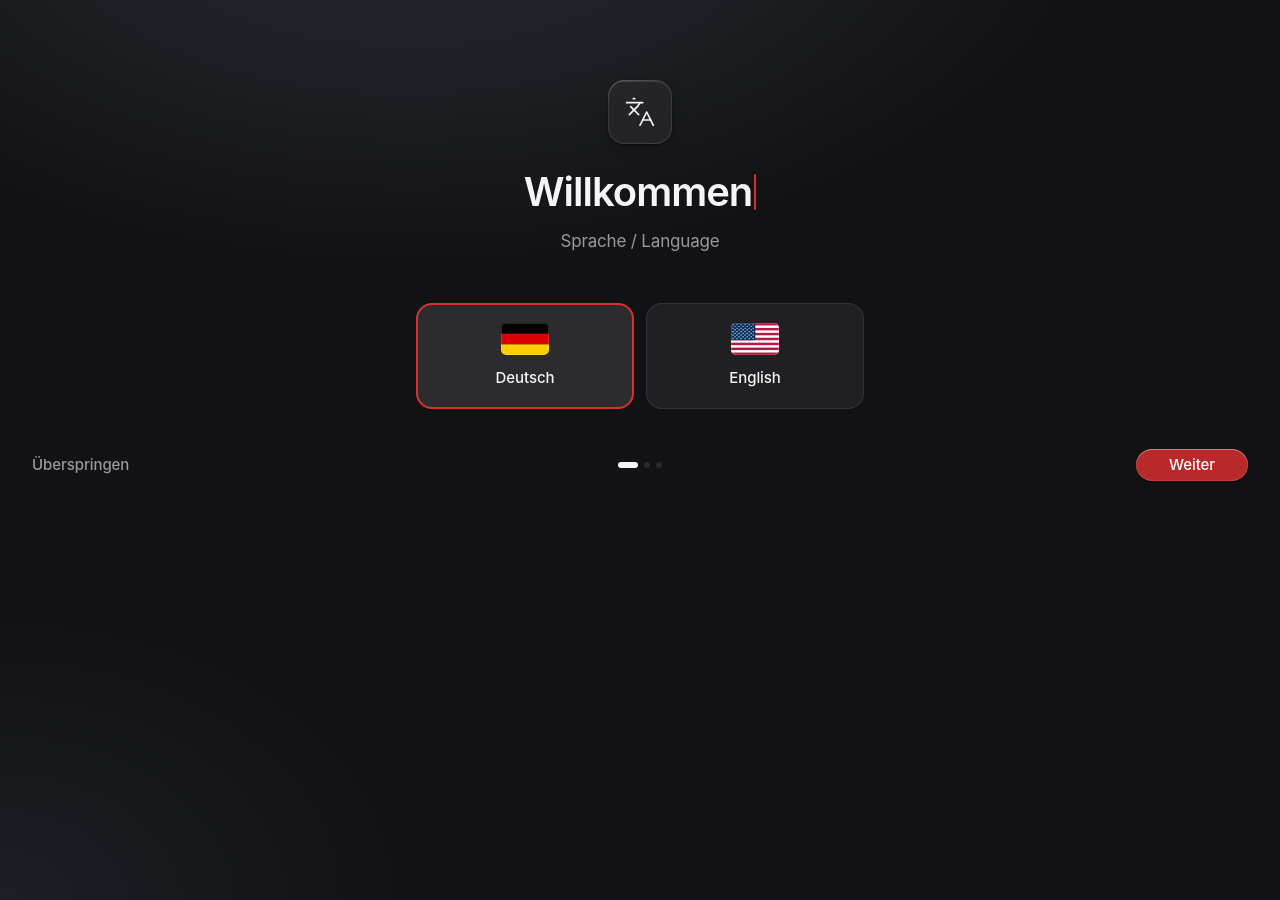
OnboardingFlow › moves forward and back between steps
Click the button "Weiter" at (1192, 465), box [1136,449,1248,481]
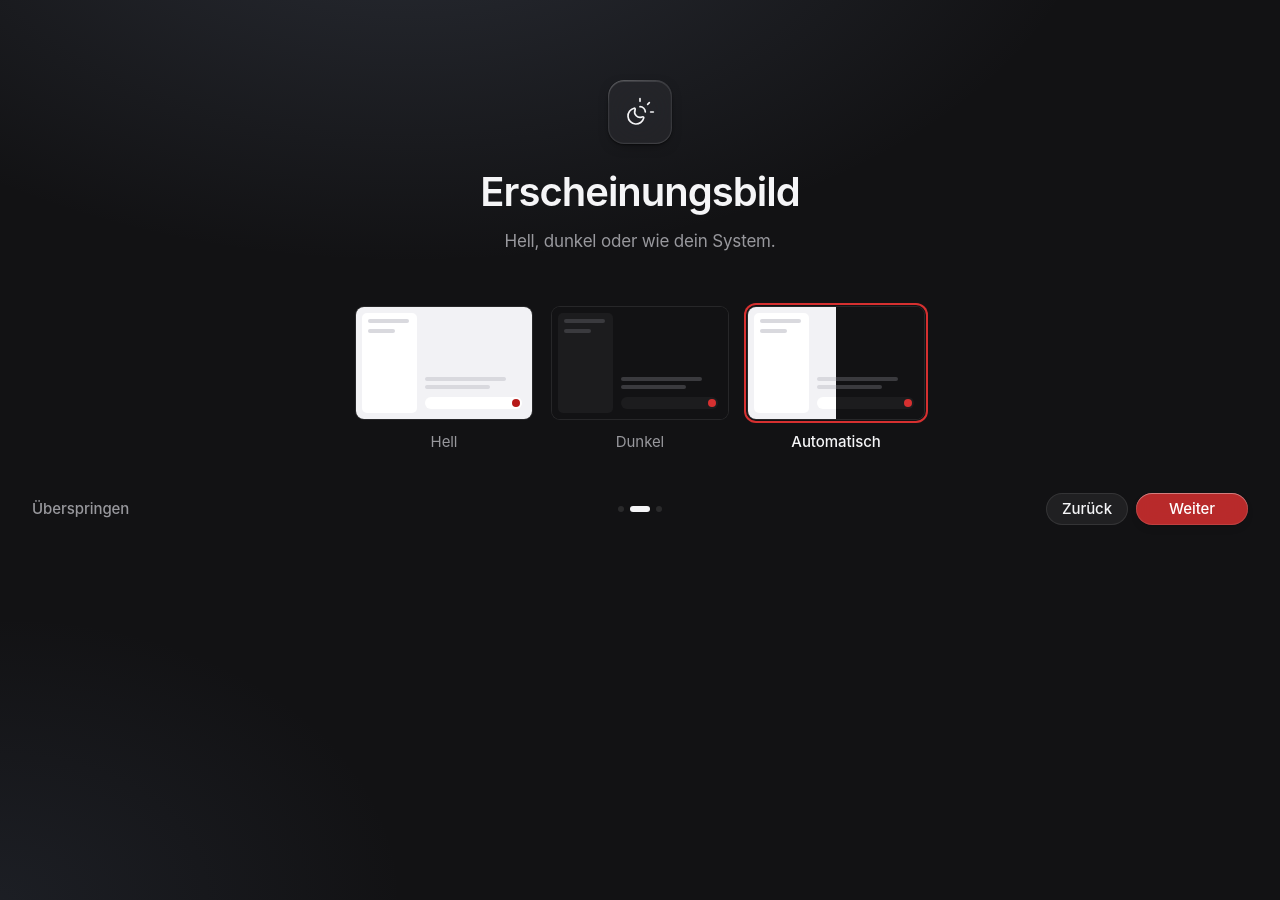
Expected: the heading "Erscheinungsbild" is shown, [480,168,800,216]
Click the button "Zurück" at (1087, 509), box [1046,493,1128,525]
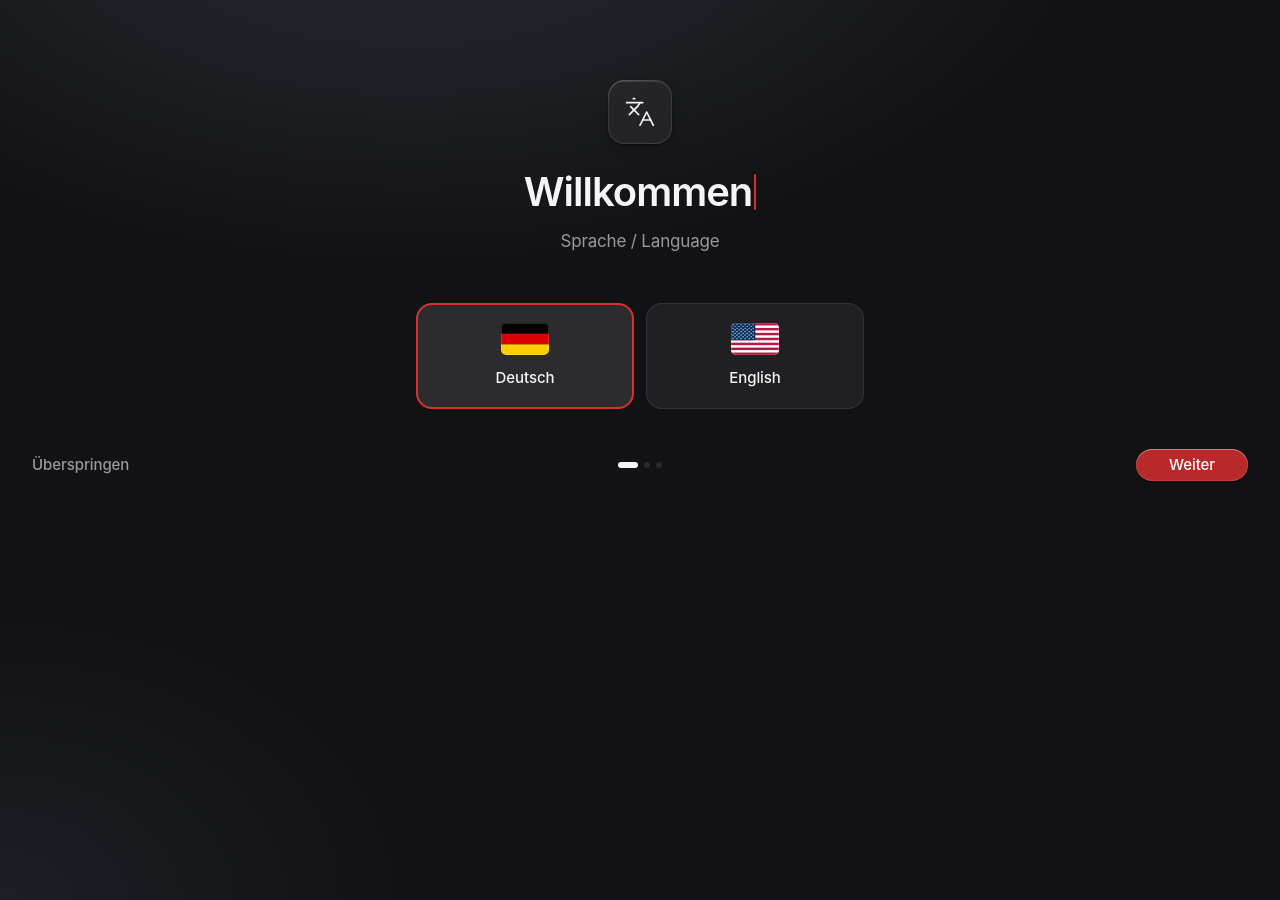
Expected: the heading "Willkommen" is shown, [524,168,756,216]
